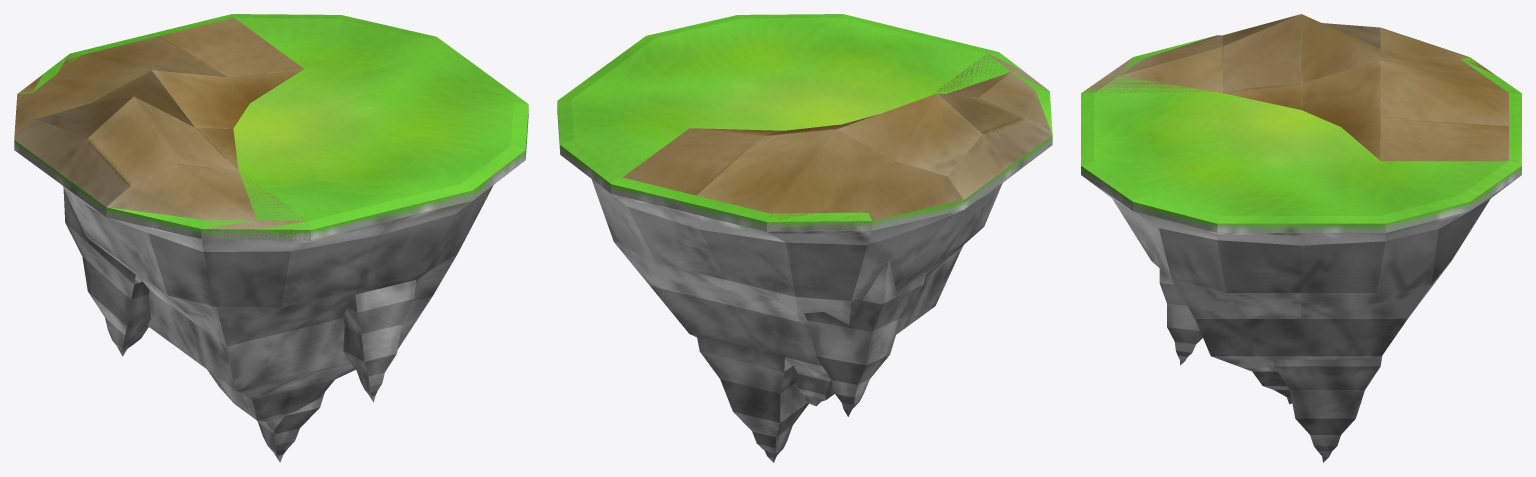
Rendered from Islands.fbx.
3 renders of one model, left to right at view 1: azimuth 30°, elevation 25°; view 2: azimuth 150°, elevation 25°; view 3: azimuth 270°, elevation 25°, orthographic. The views are drawn at different scales.
Parts seen in each view (by area): view 1: MainIsland, pyramid, BaseResouresesIsland, pyramid_1, pyramid_3, pyramid_2; view 2: MainIsland, BaseResouresesIsland, pyramid, pyramid_3, pyramid_2; view 3: MainIsland, pyramid, BaseResouresesIsland, pyramid_2, pyramid_1.
Part boxes in pixels (box(x1,y1,x2,y2)): MainIsland: box(14, 14, 528, 240); pyramid: box(62, 185, 493, 430); BaseResouresesIsland: box(14, 18, 310, 240); pyramid_1: box(343, 280, 415, 402); pyramid_3: box(63, 188, 150, 356); pyramid_2: box(256, 392, 324, 462); MainIsland: box(557, 14, 1052, 231); BaseResouresesIsland: box(622, 52, 1052, 231); pyramid: box(591, 150, 1045, 406); pyramid_3: box(804, 260, 926, 416); pyramid_2: box(696, 333, 808, 462); MainIsland: box(1081, 36, 1521, 232); pyramid: box(1084, 177, 1518, 404); BaseResouresesIsland: box(1082, 14, 1515, 161); pyramid_2: box(1273, 356, 1382, 462); pyramid_1: box(1159, 269, 1202, 365).
Bounding box in the file's own units: 1075 × 1006 × 1062.
3 materials, 3 textured.
